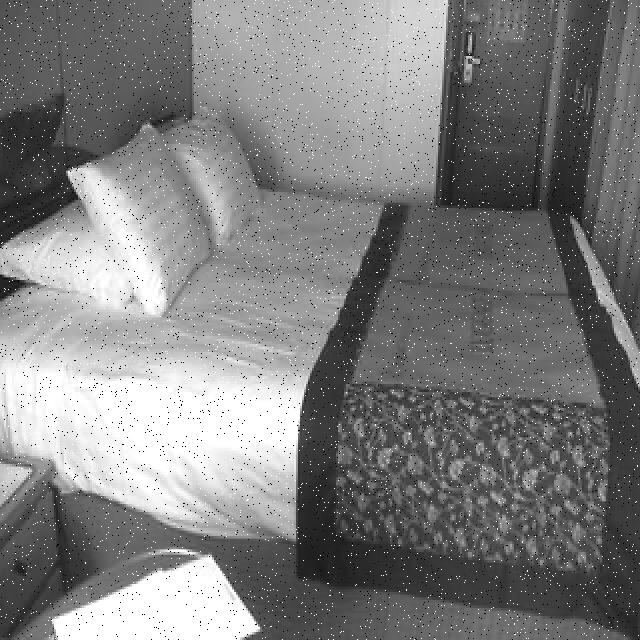bed: (0, 122, 615, 551)
